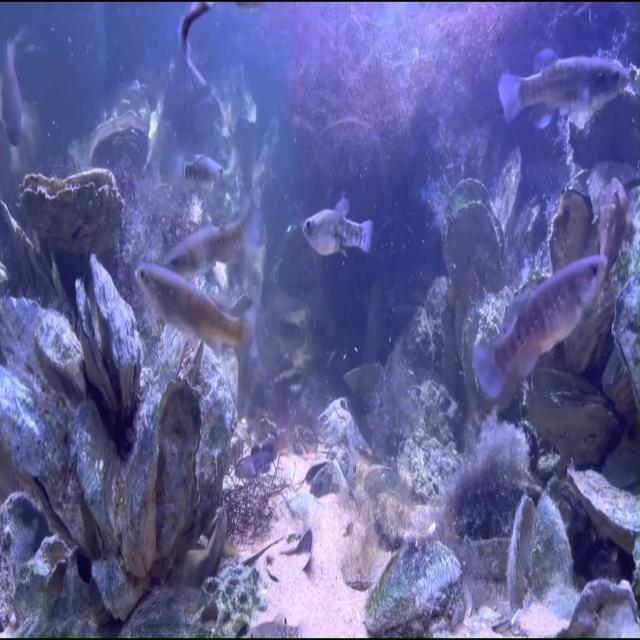Oyster- Indeterminate: (484, 144, 529, 238), (510, 193, 551, 258)
Oyster-Closed: (0, 353, 145, 561), (42, 397, 161, 553), (19, 166, 127, 259), (366, 538, 465, 638), (0, 289, 74, 420), (152, 379, 203, 562), (120, 378, 162, 581), (22, 303, 103, 407), (68, 529, 156, 621), (384, 421, 468, 509), (314, 113, 390, 204), (198, 348, 239, 510), (0, 484, 59, 584), (602, 276, 640, 424)
Oyster-Open: (504, 350, 635, 478), (66, 250, 152, 422), (433, 174, 517, 334), (508, 493, 572, 604), (542, 188, 601, 277), (87, 107, 154, 175), (152, 326, 203, 395)
